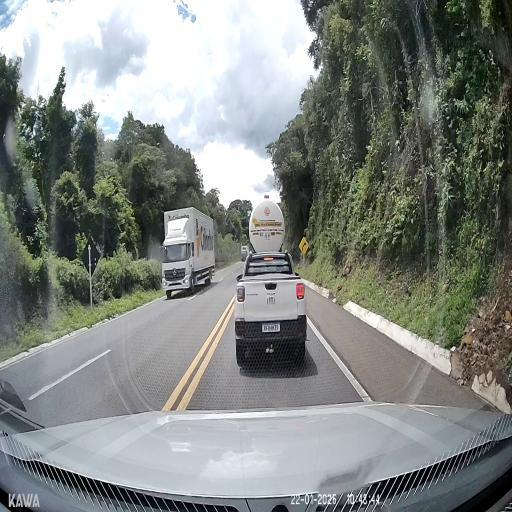A-2b: (298, 236, 308, 256)
